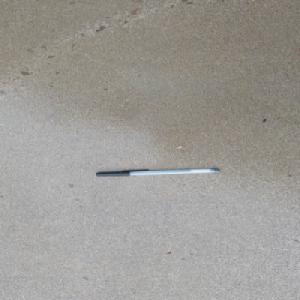Pen: (94, 167, 221, 177)
